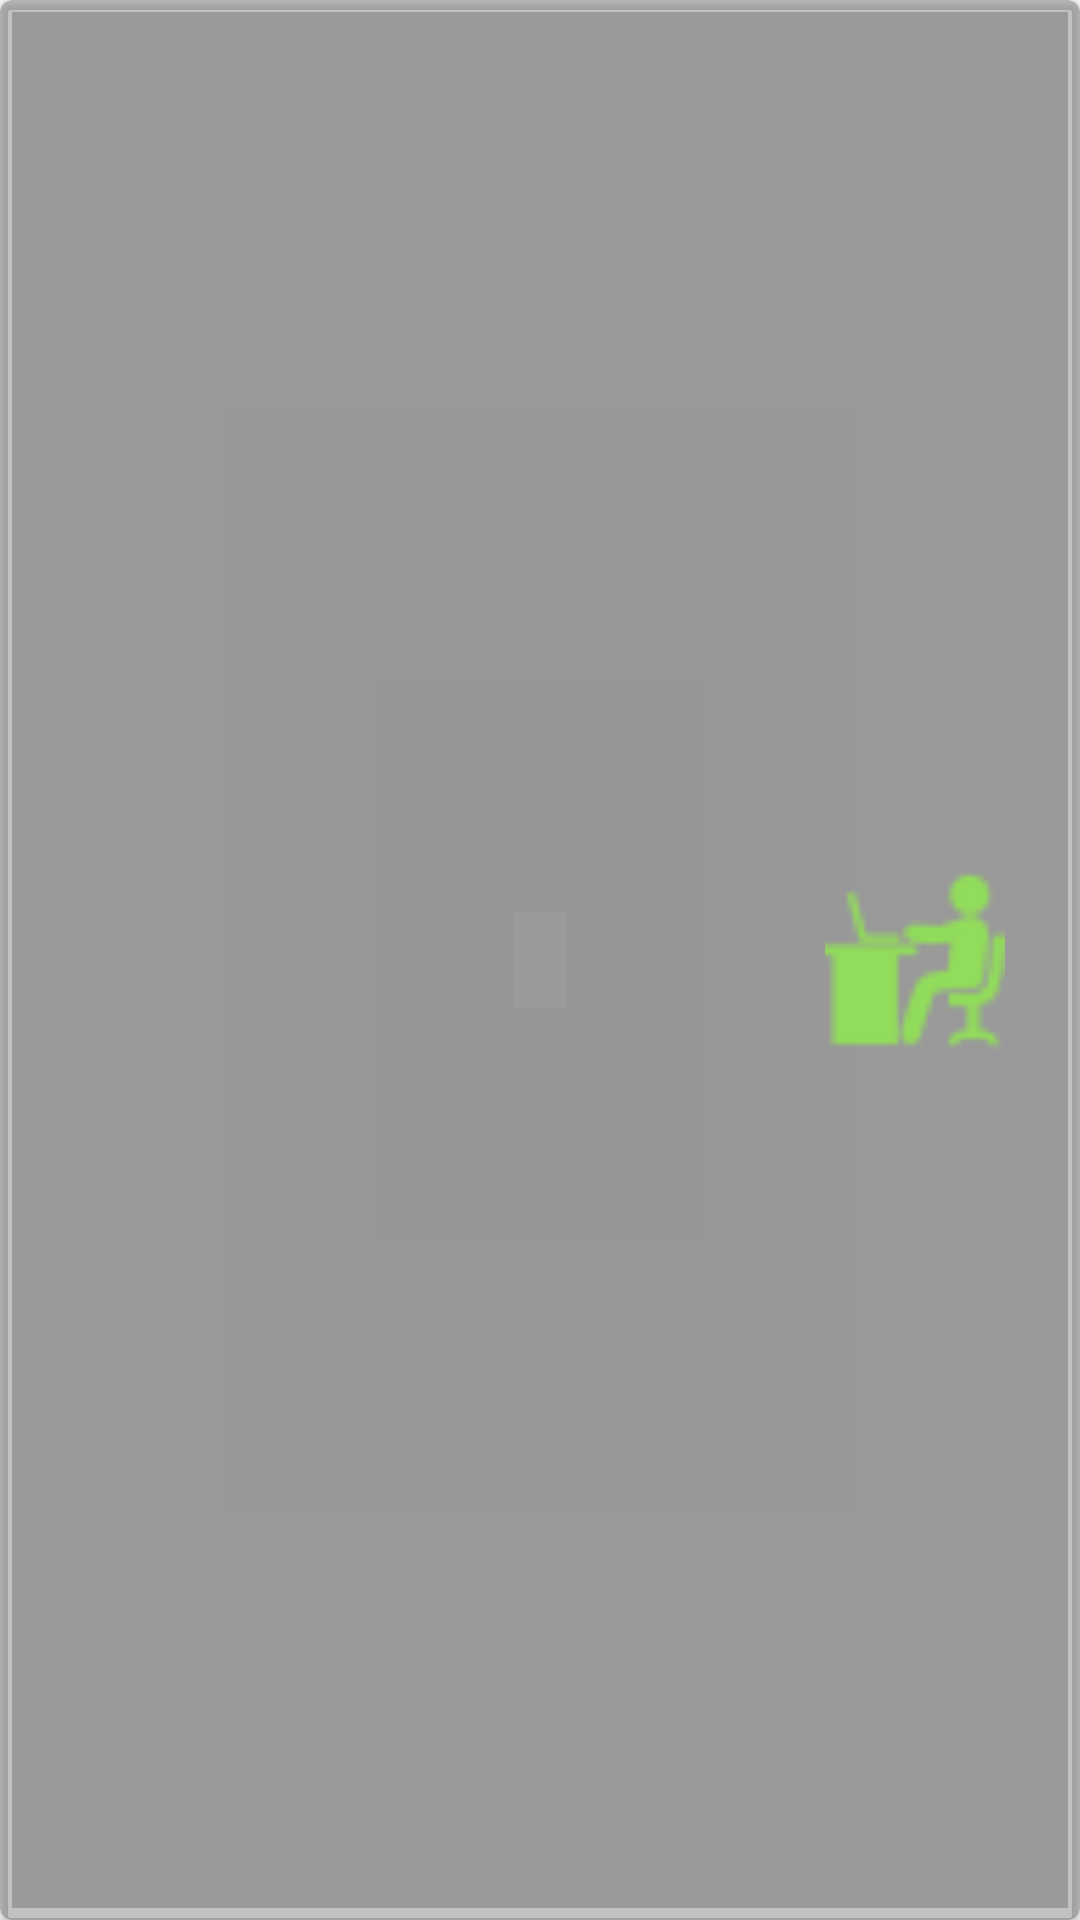

Locate icon controls on the screen. Image size 1080x1920, boxes as (x1, y1, x2, y2).
desk worker: (825, 875, 1005, 1045)
